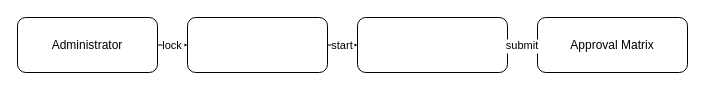
This 705x90 diagram has some shape labels left out. The shapes that lost their labels are listed below. From the top down, each one's centre as x and y in pixels, then its label:
At pixel 257 44: "ADOM Lock".
At pixel 432 44: "Workflow Session".
